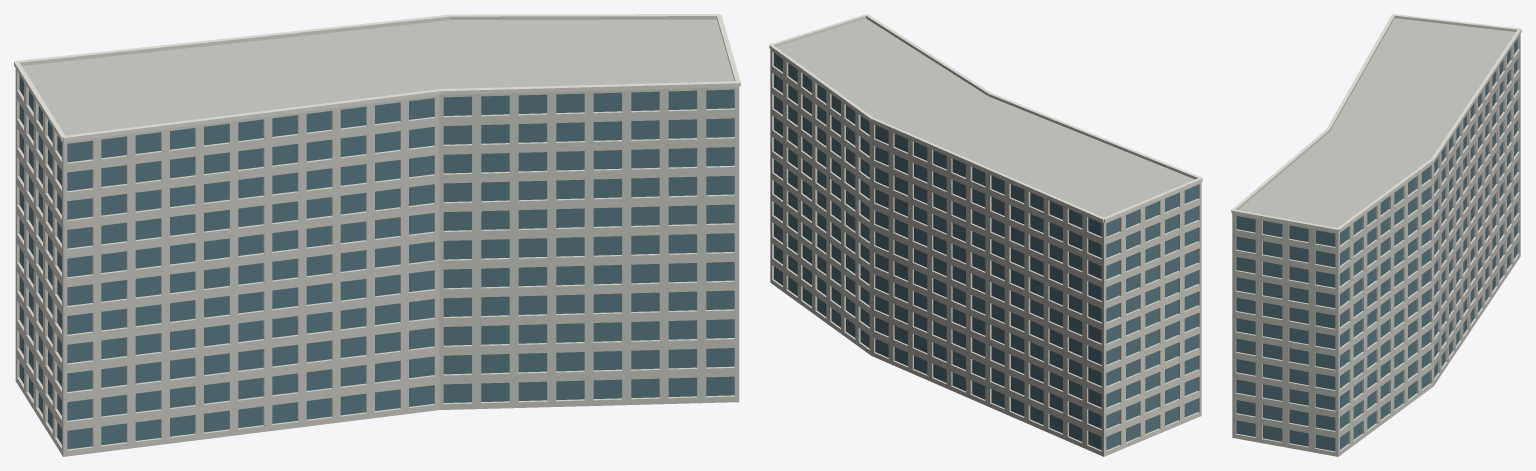
The model's file is sb_821820289.far.glb.
3 renders of one model, left to right at view 1: azimuth 30°, elevation 25°; view 2: azimuth 150°, elevation 25°; view 3: azimuth 270°, elevation 25°, orthographic. The views are drawn at different scales.
Visible parts, largest first — view 1: wall, glass, roof, trim; view 2: wall, glass, roof, trim; view 3: wall, glass, roof, trim.
Boxes of the visible parts, x1=… form: wall: x1=15, y1=68, x2=739, y2=456; glass: x1=19, y1=75, x2=734, y2=449; roof: x1=22, y1=19, x2=734, y2=135; trim: x1=14, y1=14, x2=740, y2=141; wall: x1=770, y1=49, x2=1201, y2=456; glass: x1=774, y1=53, x2=1197, y2=450; roof: x1=776, y1=18, x2=1194, y2=217; trim: x1=769, y1=14, x2=1202, y2=222; wall: x1=1232, y1=34, x2=1520, y2=456; glass: x1=1236, y1=39, x2=1517, y2=451; roof: x1=1238, y1=18, x2=1515, y2=227; trim: x1=1231, y1=14, x2=1521, y2=232.
Bounding box in the file's own units: 73.48 × 36.14 × 41.78.
